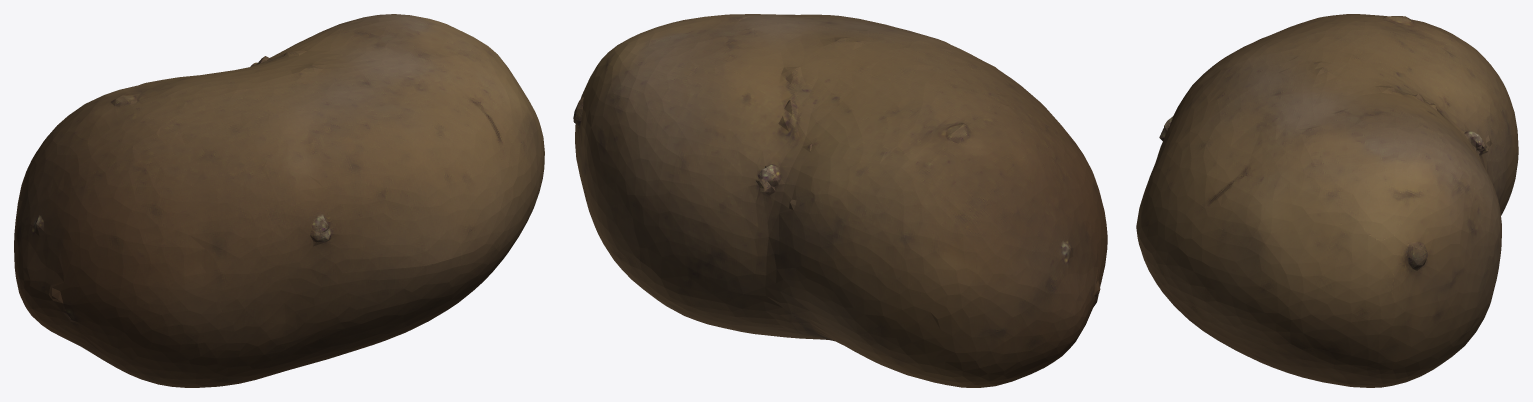
File: sample.glb
3 views of the same model, side by side, from view 1: azimuth 30°, elevation 25°; view 2: azimuth 150°, elevation 25°; view 3: azimuth 270°, elevation 25° (orthographic). The views are drawn at different scales.
Visible parts, largest first — view 1: world; view 2: world; view 3: world.
Part boxes in pixels (<box>): world: <box>14,14,544,387</box>; world: <box>573,14,1107,387</box>; world: <box>1136,14,1518,387</box>.
Bounding box in the file's own units: 0.6305 × 0.3483 × 0.4239.
Materials: 1 (1 with a texture image).
